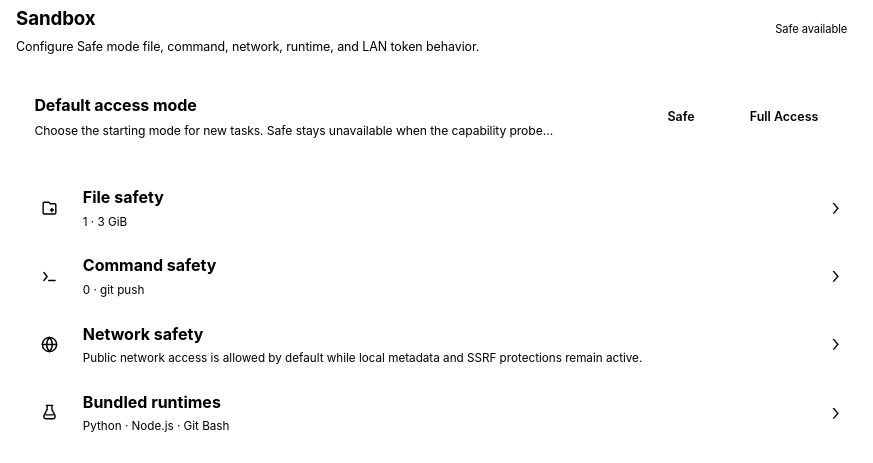
Test: SandboxSettingsPanel › opens focused details and returns without saving
Click the button with test id "sandbox-open-files".
click(123, 197)  # box [16, 174, 856, 242]
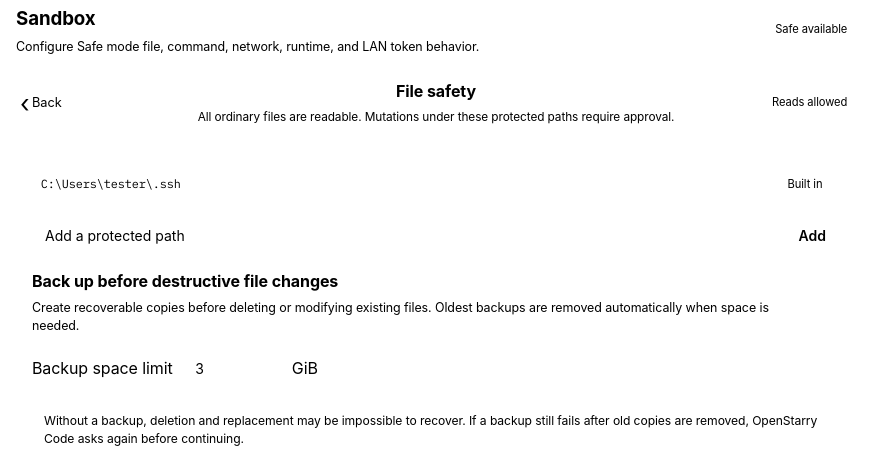
expect the header with test id "sandbox-detail" is shown: met, box [16, 76, 856, 130]
expect the element with test id "builtin-file-rules" shows "C:\\Users\\tester\\.ssh": met, box [41, 176, 181, 191]
Click the button with test id "sandbox-detail-back".
click(44, 103)  # box [16, 83, 71, 123]
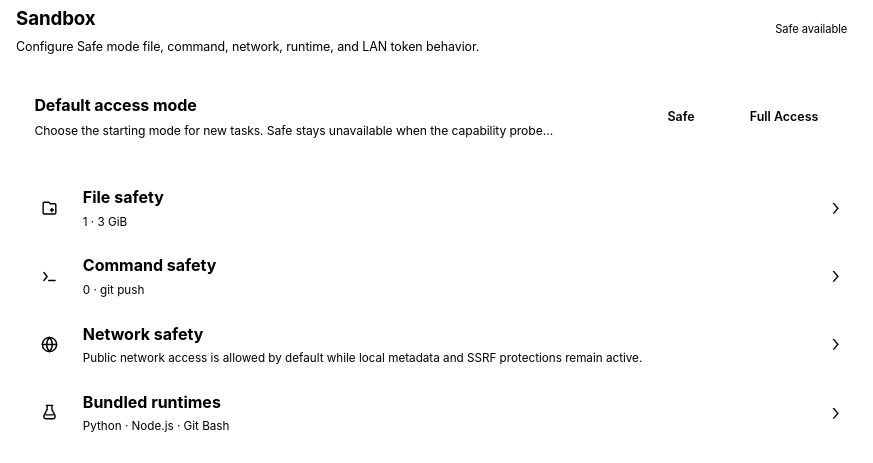
expect the element with test id "sandbox-overview" is shown: met
